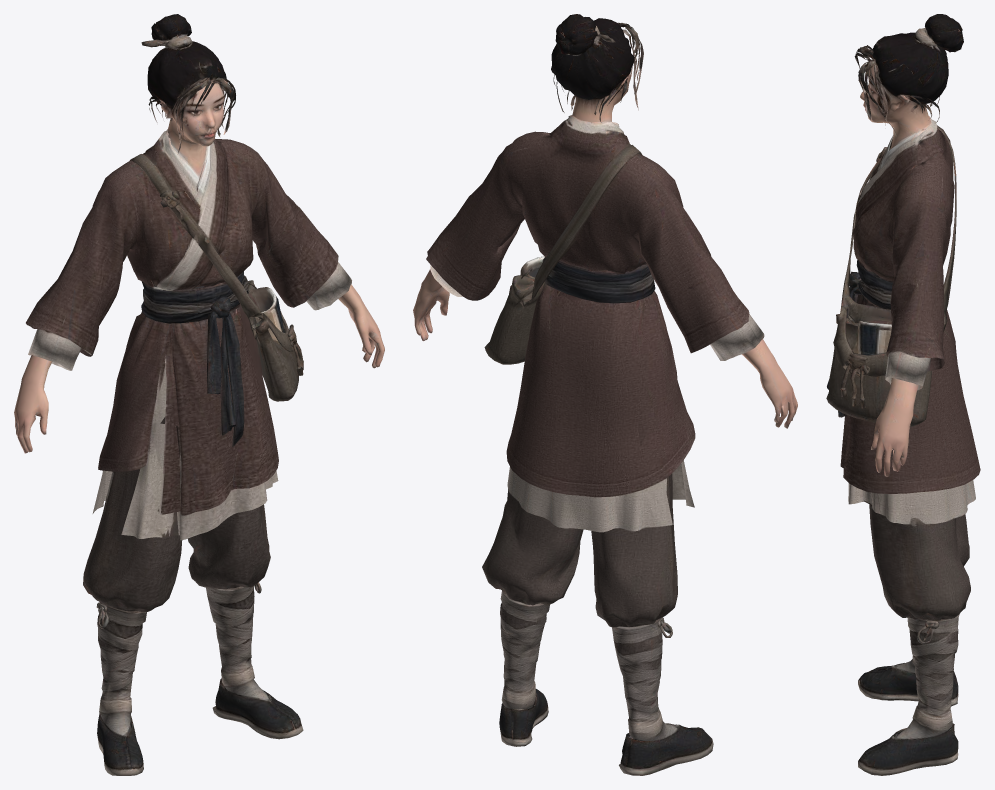
Rendered from female.glb.
3 renders of one model, left to right at view 1: azimuth 30°, elevation 25°; view 2: azimuth 150°, elevation 25°; view 3: azimuth 270°, elevation 25°, orthographic. The views are drawn at different scales.
Size of the model in its own units: 0.5073 by 0.9507 by 0.186.
Materials: 1 (1 with a texture image).
